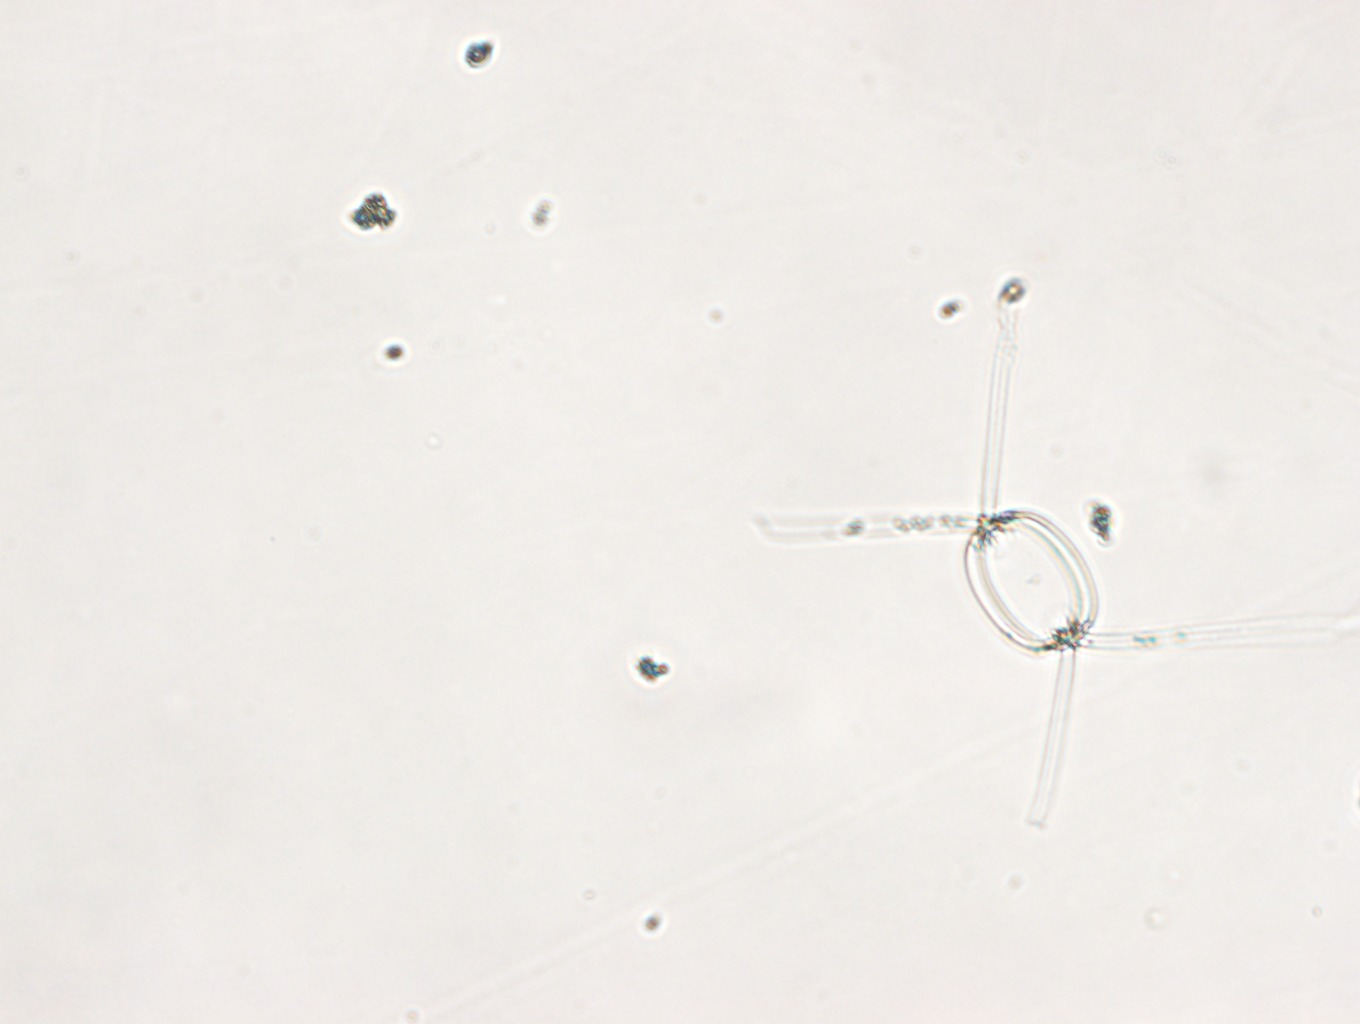chaetoceros: (760, 309, 1211, 839)
